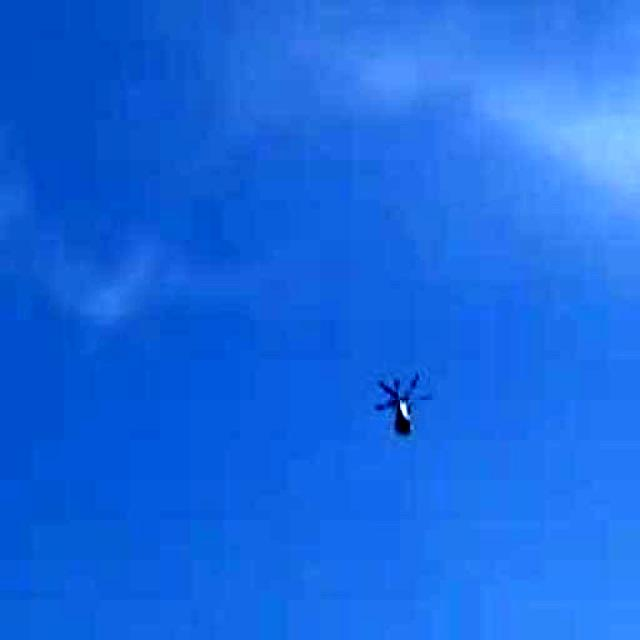drone: (359, 365, 449, 455)
